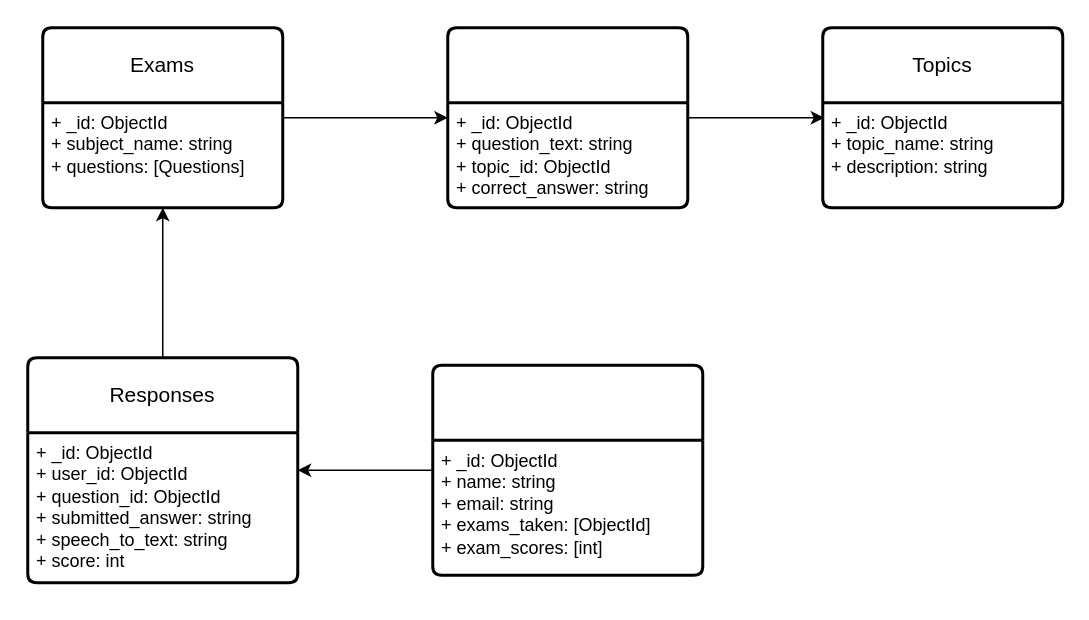
The diagram is 1089 pixels wide and 620 high, and some of its shapes have lost their labels. The box of each missing label's shape, as (x1, y1, x2, y2) in pixels:
Questions: (446, 26, 688, 208)
Users: (430, 363, 704, 576)
